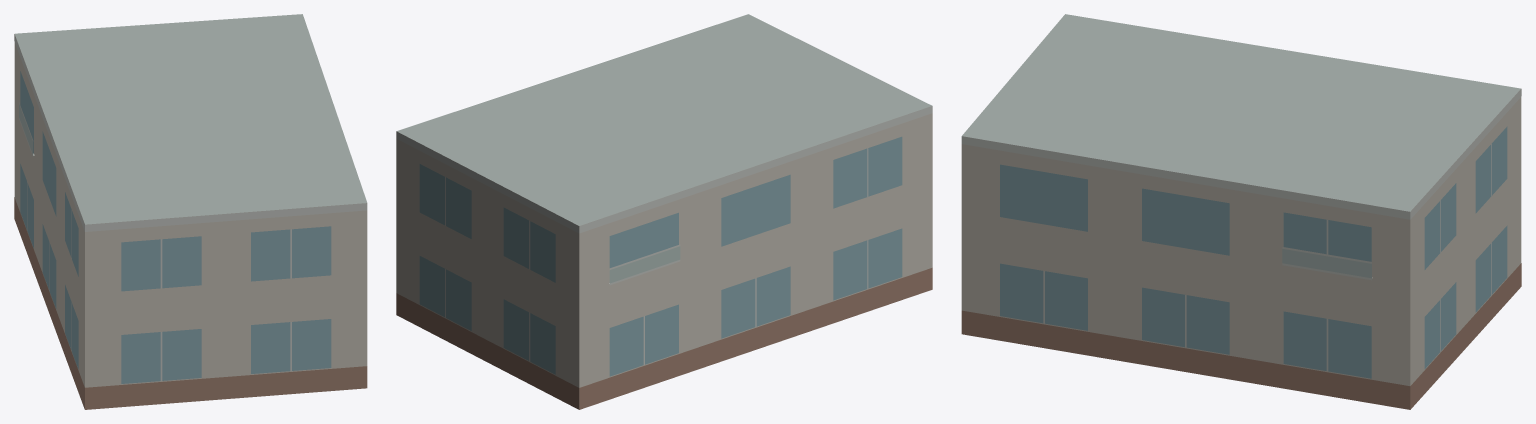
Rendered from survey-upis-33010432.glb.
3 views of the same model, side by side, from view 1: azimuth 30°, elevation 25°; view 2: azimuth 150°, elevation 25°; view 3: azimuth 270°, elevation 25° (orthographic). The views are drawn at different scales.
Parts seen in each view (by area): view 1: survey-upis-33010432.tmp; view 2: survey-upis-33010432.tmp; view 3: survey-upis-33010432.tmp.
Boxes of the visible parts, <box> form: survey-upis-33010432.tmp: <box>14,14,367,409</box>; survey-upis-33010432.tmp: <box>396,14,932,409</box>; survey-upis-33010432.tmp: <box>961,14,1521,409</box>.
Bounding box in the file's own units: 13.08 × 6.1 × 15.63.
